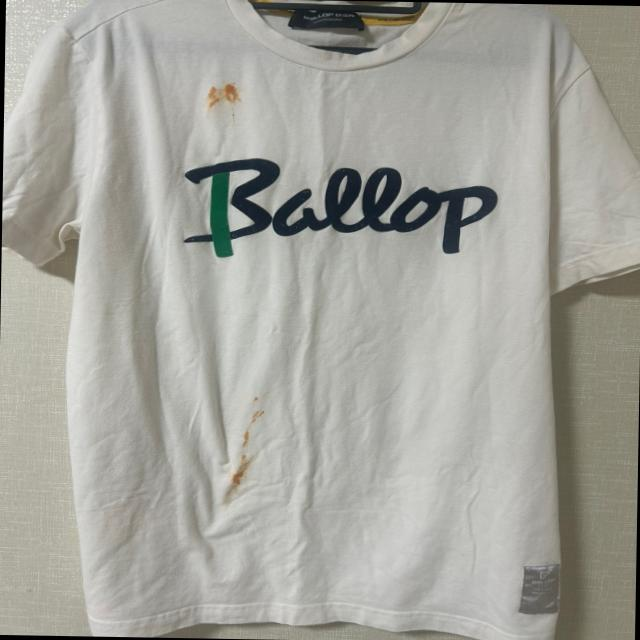stain: (240, 392, 264, 446), (222, 76, 257, 112), (230, 452, 258, 486), (208, 77, 230, 110)
